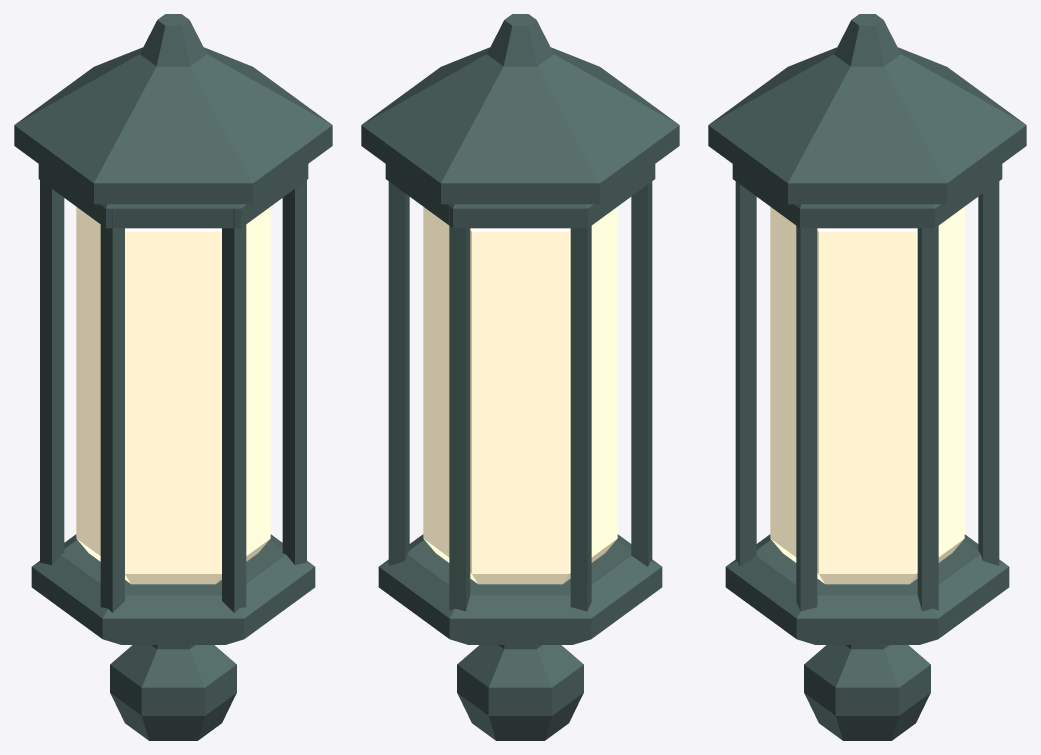
Rendered from world05-lantern-v1.glb.
3 renders of one model, left to right at view 1: azimuth 30°, elevation 25°; view 2: azimuth 150°, elevation 25°; view 3: azimuth 270°, elevation 25°, orthographic.
Visible parts, largest first — view 1: frame, glass; view 2: frame, glass; view 3: frame, glass.
Part boxes in pixels (<box>): frame: <box>14,14,332,740</box>; glass: <box>76,207,270,584</box>; frame: <box>361,14,679,740</box>; glass: <box>423,207,617,584</box>; frame: <box>708,14,1026,740</box>; glass: <box>770,207,964,584</box>.
Bounding box in the file's own units: 0.2044 × 0.575 × 0.236.
